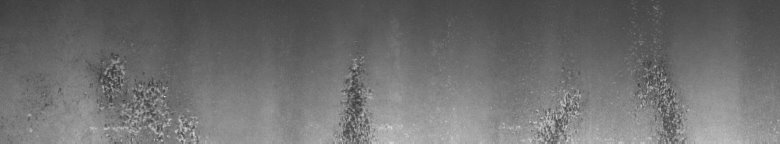hc: (339, 53, 383, 136)
